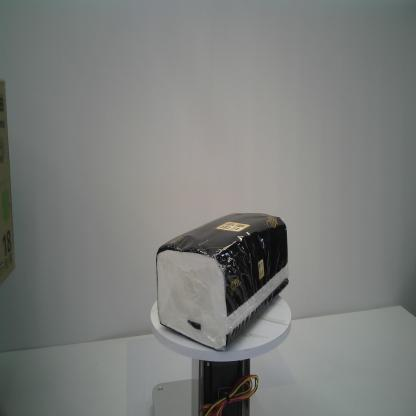Tissue: (154, 210, 290, 354)
